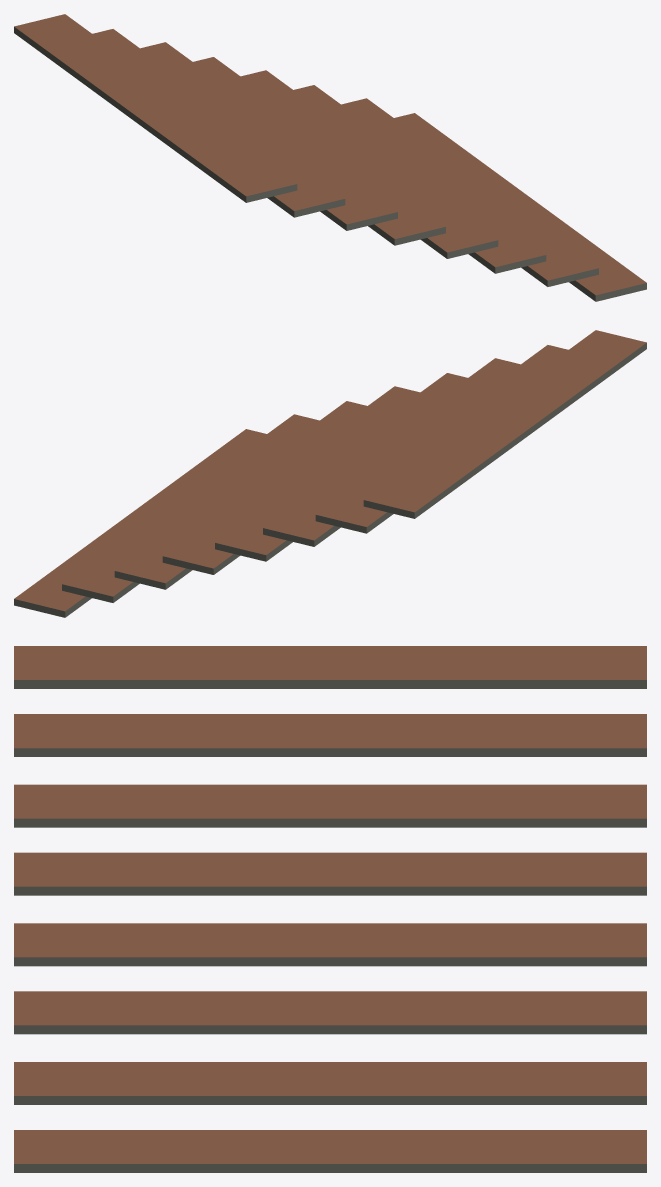
The model's file is OT_019_brown_stairs_var3.glb.
3 renders of one model, top to bottom at view 1: azimuth 30°, elevation 25°; view 2: azimuth 150°, elevation 25°; view 3: azimuth 270°, elevation 25°, orthographic. The views are drawn at different scales.
Visible parts, largest first — view 1: brown_stairs; view 2: brown_stairs; view 3: brown_stairs.
Boxes of the visible parts, x1,y1,x2,y2 form: brown_stairs: (14, 14, 646, 301); brown_stairs: (14, 330, 646, 617); brown_stairs: (14, 646, 646, 1172).
Size of the model in its own units: 2.99 by 1.36 by 3.
